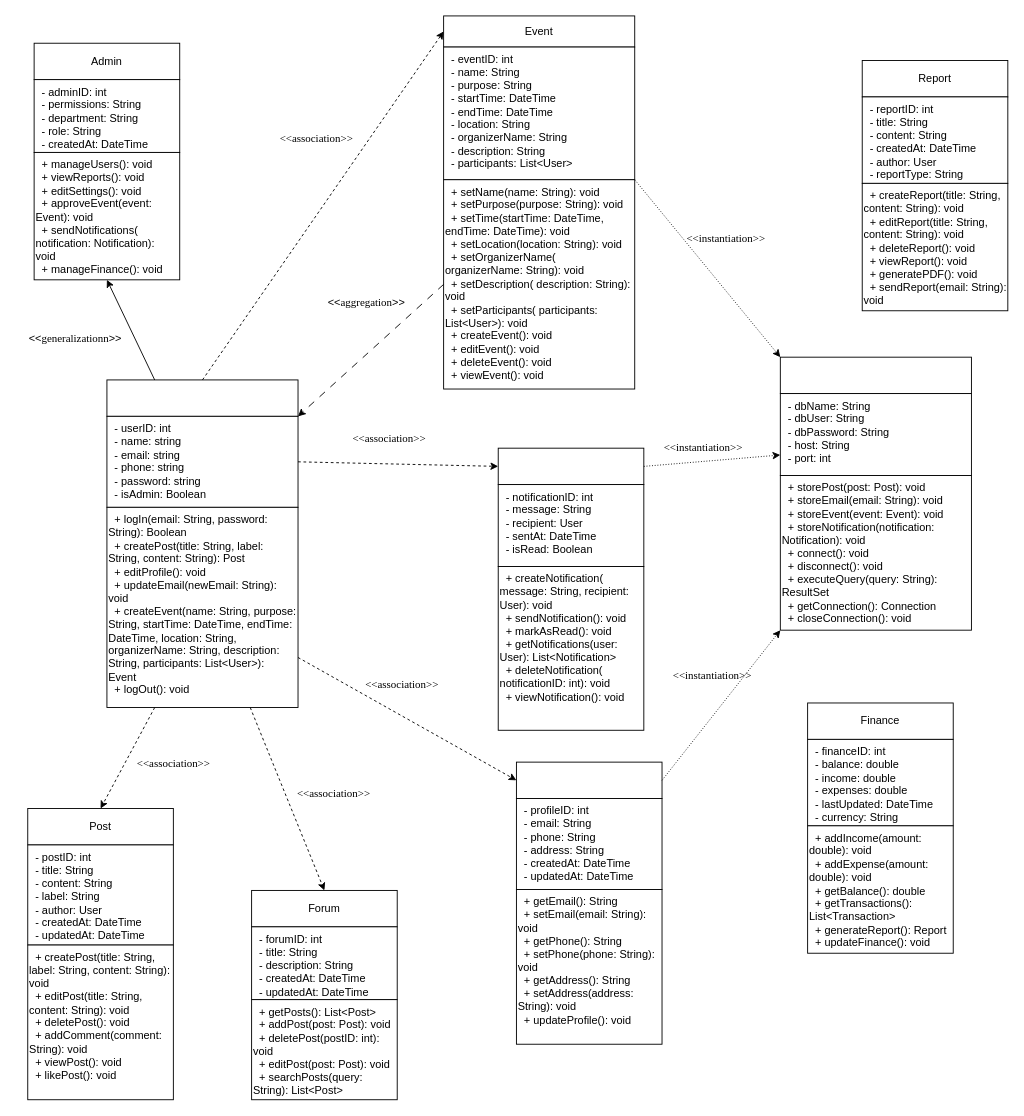
The diagram is 1024 pixels wide and 1116 high, and some of its shapes have lost their labels. Here are the shapes that lost their labels. From the top down, the centre of each, then its label:
At [875,375]: "Database".
At [202,397]: "User".
At [570,466]: "Notification".
At [589,780]: "Profile".
